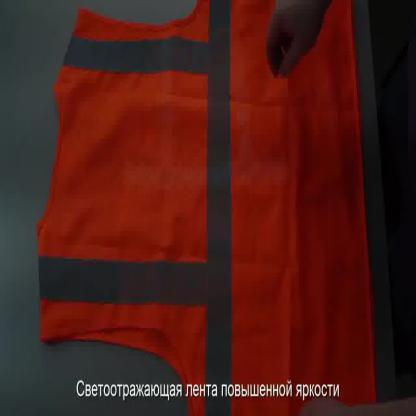vest: (35, 0, 378, 415)
